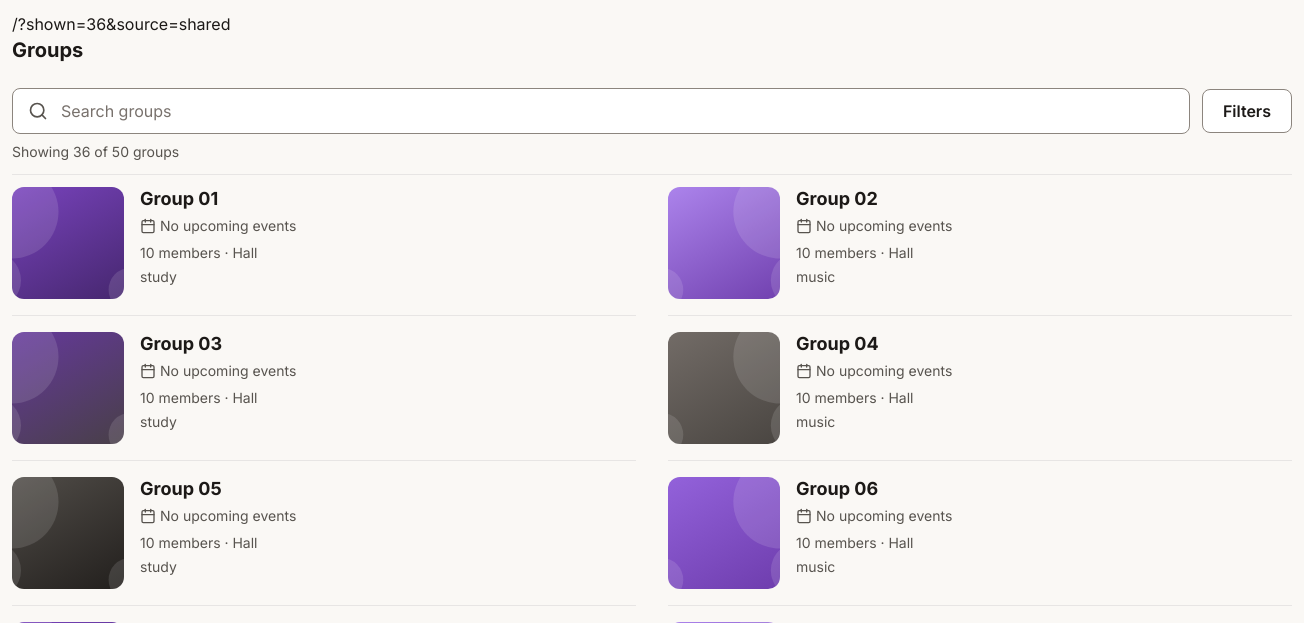
resets the batch for a new search, retaining other URL parameters
Type "Group 50" into the search field. click: (601, 111)
box: [12, 88, 1190, 134]
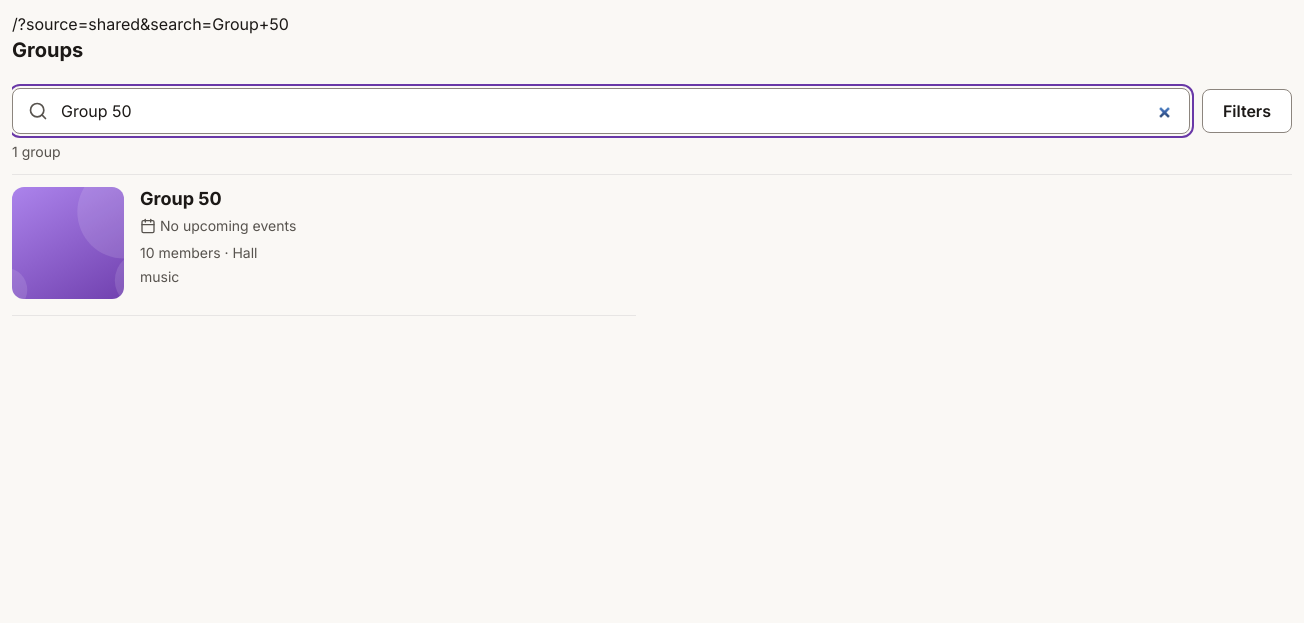
Check: the message reads "1 group", box [12, 143, 60, 160]
Check: the text with test id "url" shows "source=shared&search=Group+50", box [18, 14, 289, 34]
Check: the text with test id "url" no longer shows "shown=", box [12, 14, 289, 34]
